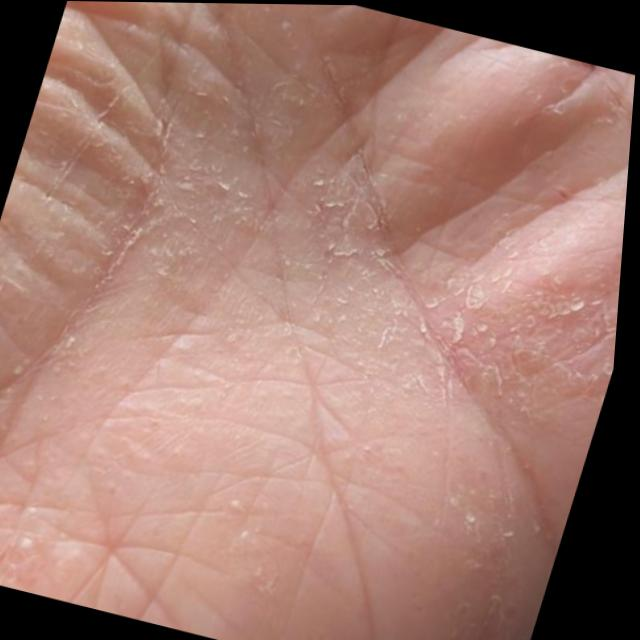Eczema: (0, 0, 640, 634)
